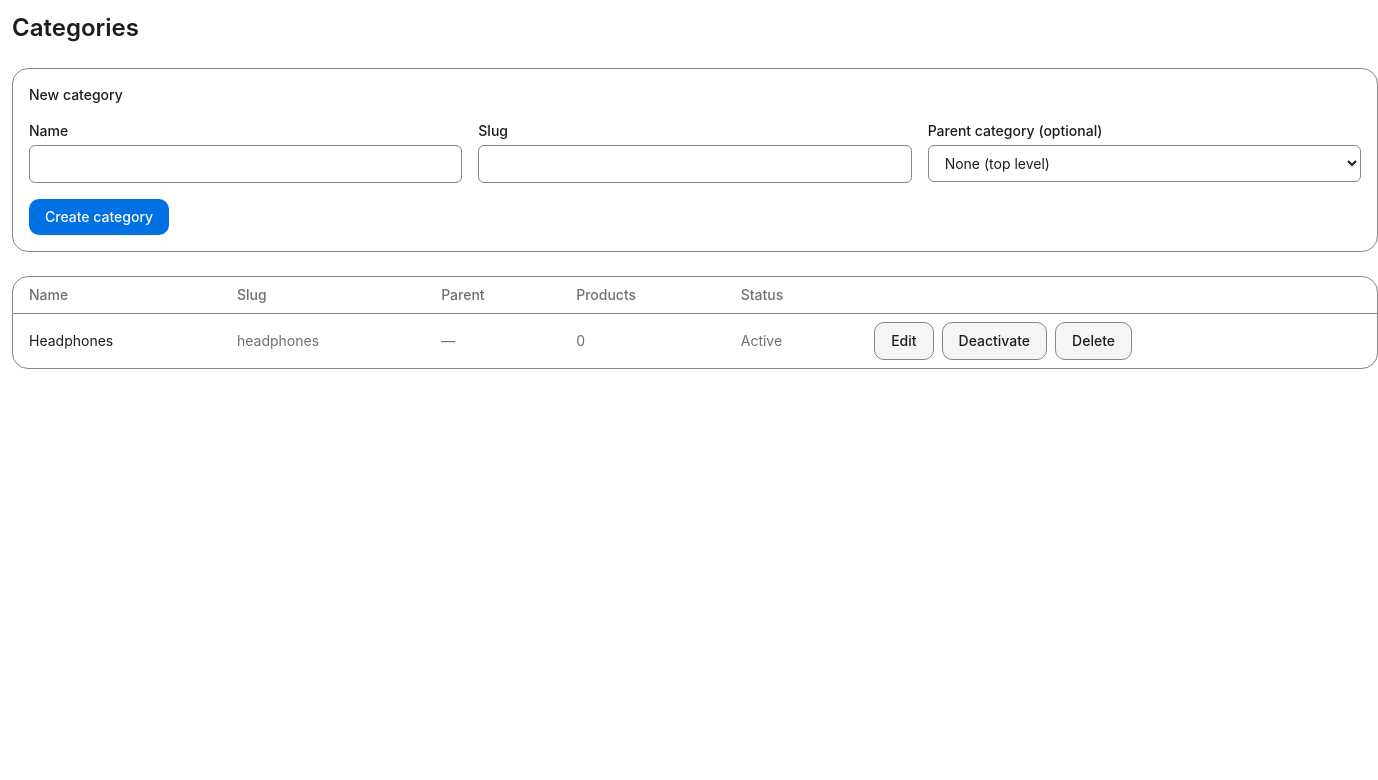
Scenario: AdminCategoriesPage › deactivates an active category
This screenshot has width=1378, height=780.
expect the cell "Headphones" is shown: met, box x1=13 y1=314 x2=221 y2=368
Click the button "Deactivate": (994, 341) x1=942 y1=322 x2=1047 y2=360
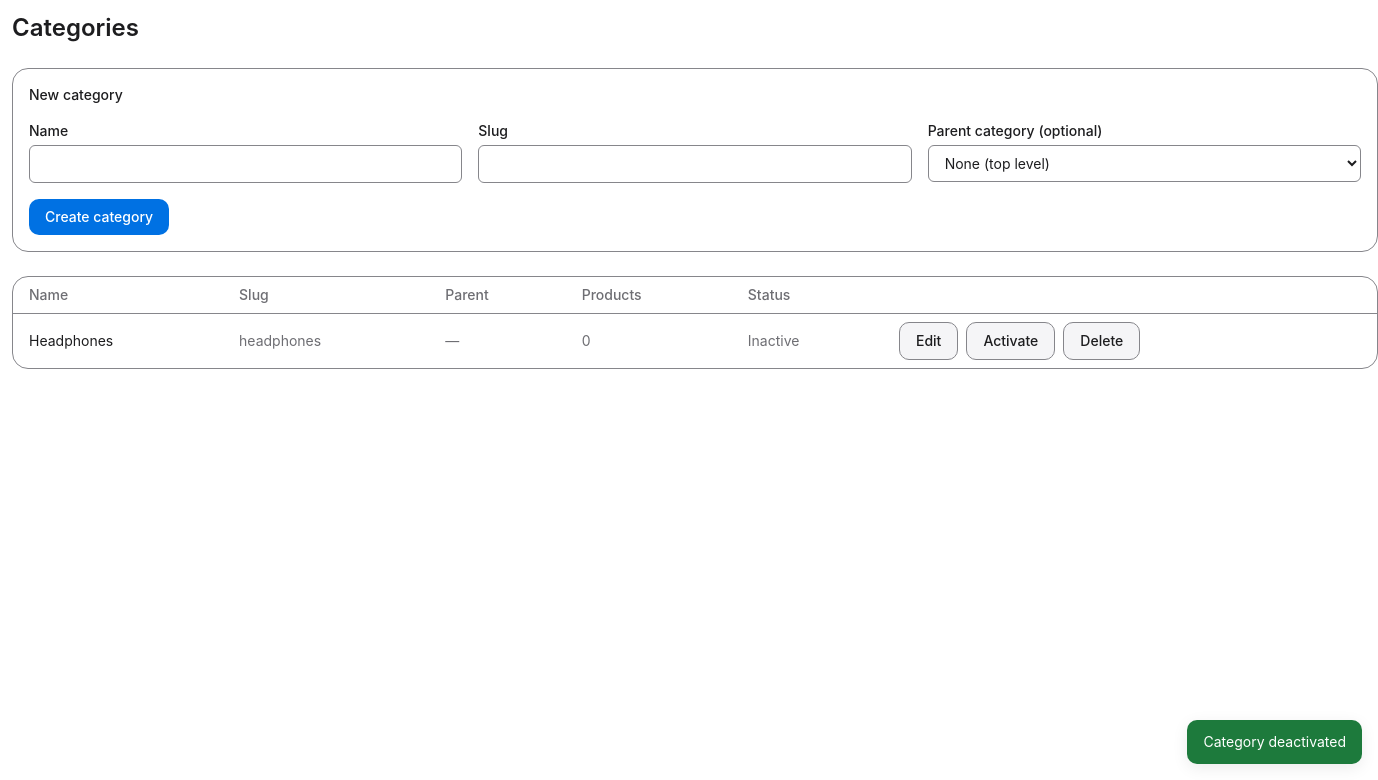
expect the text "Category deactivated" is shown: met, box x1=1188 y1=720 x2=1362 y2=764
expect the text "Inactive" is shown: met, box x1=732 y1=314 x2=883 y2=368
